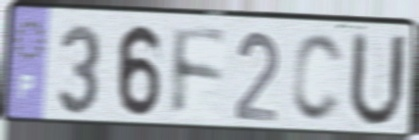2: (233, 28, 282, 125)
3: (55, 20, 103, 119)
6: (115, 21, 164, 122)
C: (289, 31, 347, 127)
F: (170, 24, 230, 122)
U: (345, 29, 409, 133)
